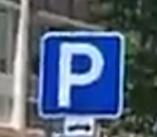Estacionamento autorizado: (37, 30, 126, 119)
